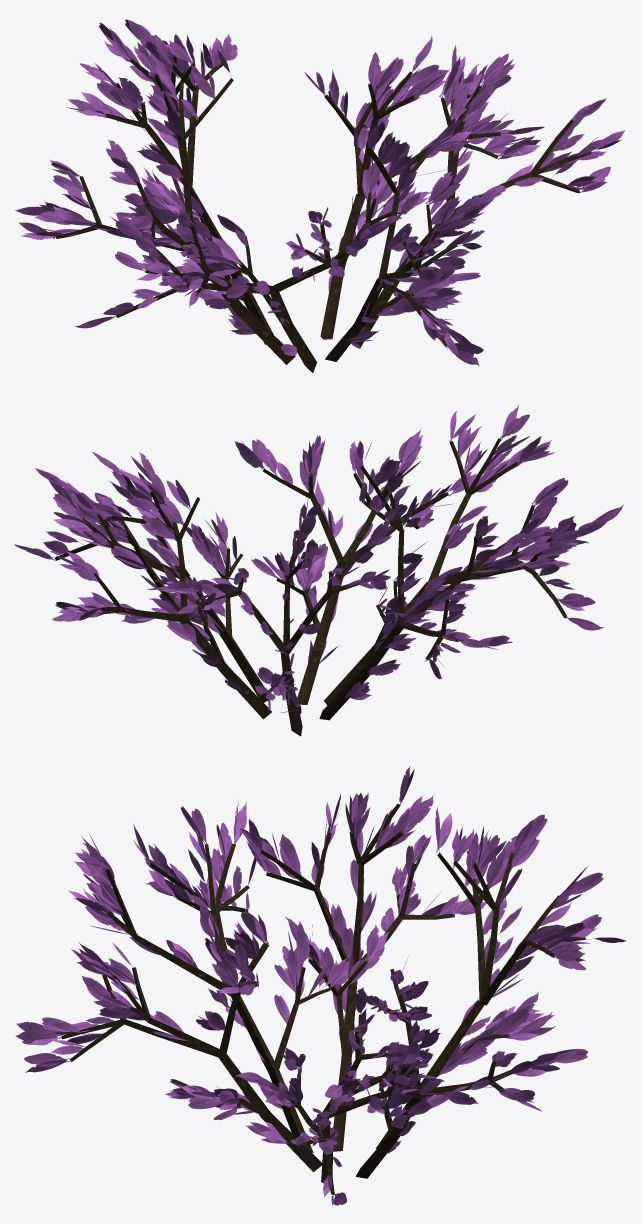
File: heather_dwarf_v01_LOD1.glb
The picture shows the model from 3 angles, top to bottom: view 1: azimuth 30°, elevation 25°; view 2: azimuth 150°, elevation 25°; view 3: azimuth 270°, elevation 25°; orthographic projection. The views are drawn at different scales.
Parts seen in each view (by area): view 1: heather_dwarf_v01_LOD1; view 2: heather_dwarf_v01_LOD1; view 3: heather_dwarf_v01_LOD1.
Boxes of the visible parts, x1,y1,x2,y2 form: heather_dwarf_v01_LOD1: (15,19,625,372); heather_dwarf_v01_LOD1: (14,405,623,736); heather_dwarf_v01_LOD1: (15,766,626,1205).
Bounding box in the file's own units: 0.5762 × 0.306 × 0.5083.
Materials: 2 (2 with a texture image).
